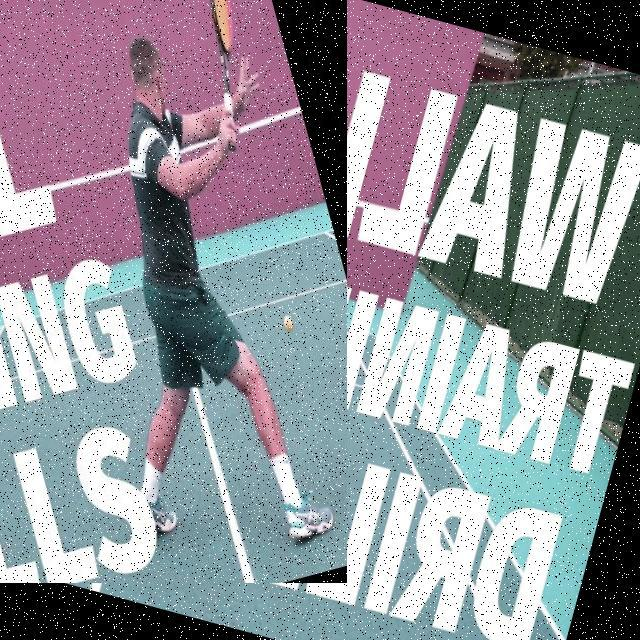player: (0, 0, 347, 583)
